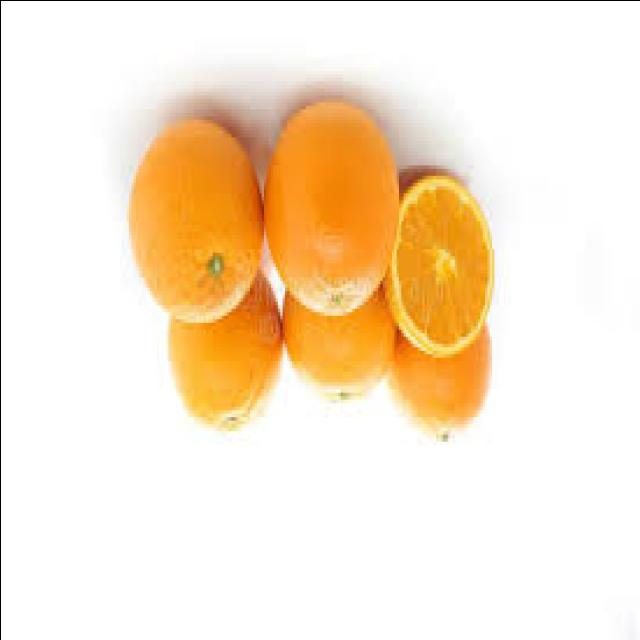orange: (262, 77, 398, 317)
